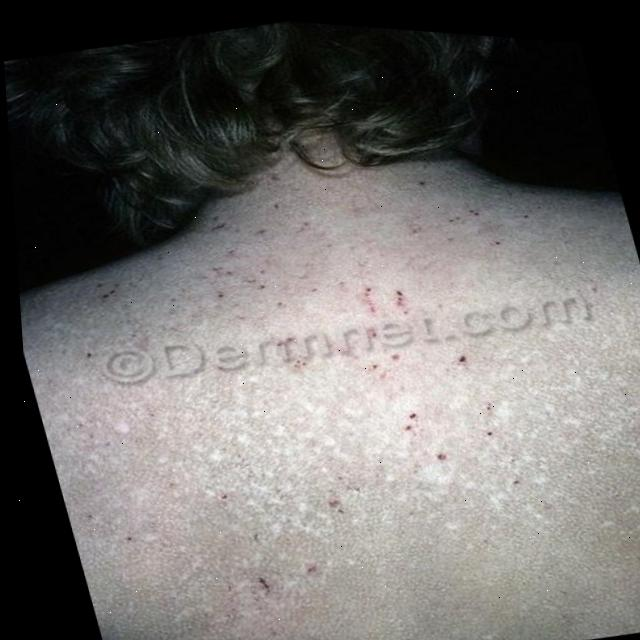Eczema: (94, 146, 582, 613)
